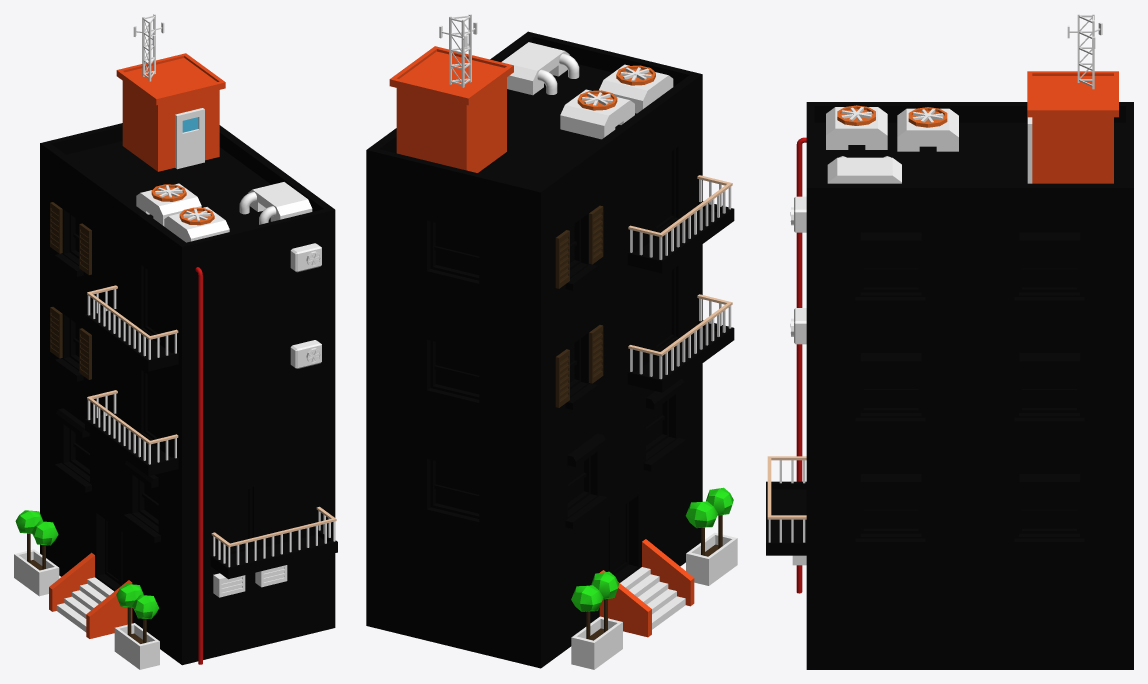
File: Building_03.FBX
The picture shows the model from 3 angles, left to right: view 1: azimuth 30°, elevation 25°; view 2: azimuth 150°, elevation 25°; view 3: azimuth 270°, elevation 25°; orthographic projection. The views are drawn at different scales.
Visible parts, largest first — view 1: Buildings_03; view 2: Buildings_03; view 3: Buildings_03.
Boxes of the visible parts, bbox=[...] form: Buildings_03: bbox=[14, 14, 337, 669]; Buildings_03: bbox=[366, 14, 737, 669]; Buildings_03: bbox=[766, 14, 1133, 669].
Bounding box in the file's own units: 15.67 × 39.46 × 21.3.
